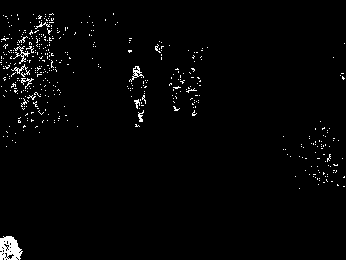person: (128, 65, 148, 129), (186, 69, 202, 116), (169, 65, 184, 114)
